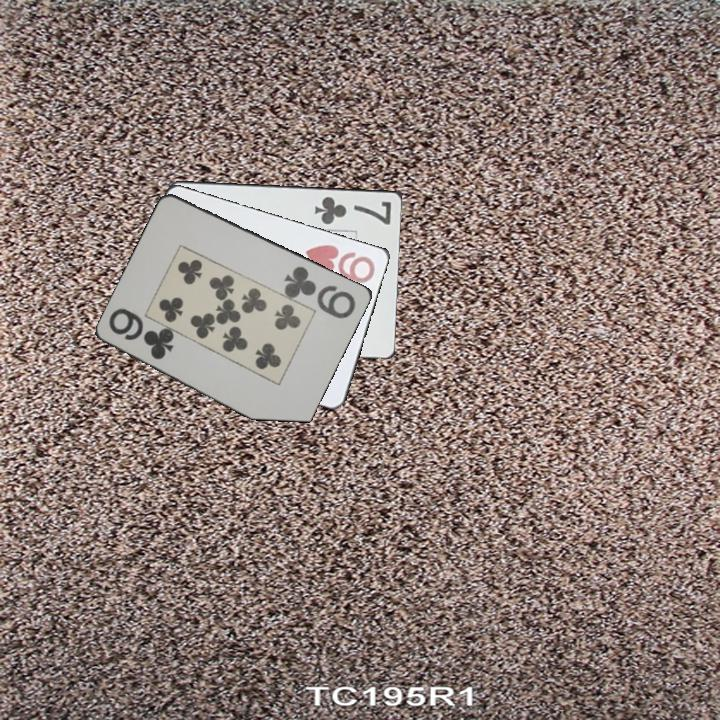7c: (311, 192, 395, 227)
9c: (281, 262, 359, 322), (105, 305, 177, 362)
9h: (302, 241, 378, 286)
